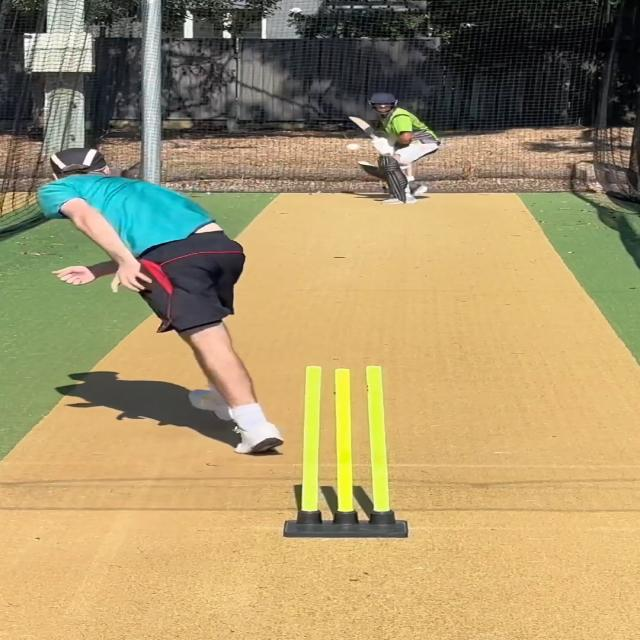ball: (345, 143, 361, 152)
stump: (289, 362, 401, 540)
